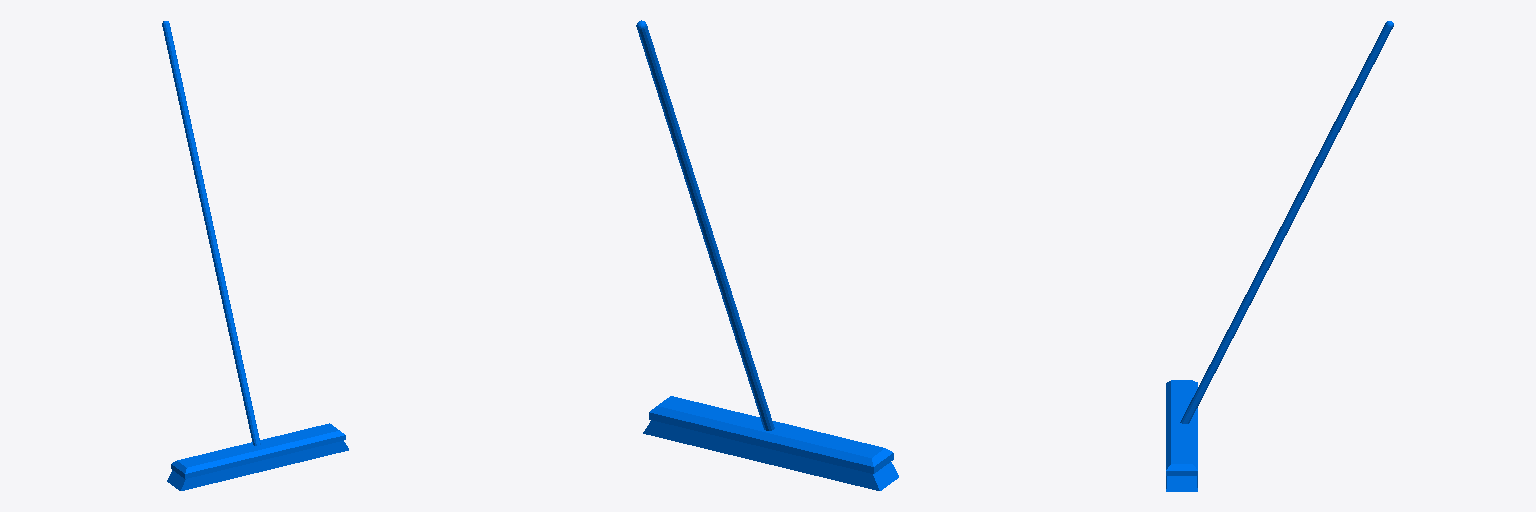
URDF robot description (broom):
<?xml version="1.0"?>
<robot name="broom">
    <link name="broom_body">
        <inertial>
            <origin xyz="0.000059 -0.098607 0.074060" rpy="3.141299 3.558271 1.570976" />
            <inertia ixz="0" ixy="0" ixx="1" izz="1" iyz="0" iyy="0.3" />
            <mass value="10" />
        </inertial>
        <collision name="broom1">
            <origin xyz="0.000677 0.01584 0.321189" rpy="2.705260 3.141593 3.141593" />
            <geometry>
                <box size="0.011250 0.011250 0.600000" />
            </geometry>
        </collision>
        <collision name="broom2">
            <origin xyz="-0.000068 -0.122151 0.023222" rpy="3.141592 3.141593 3.141592" />
            <geometry>
                <box size="0.262500 0.037500 0.037500" />
            </geometry>
        </collision>
        <visual name="sweep_to_dustpan_broom_visual">
            <origin xyz="-0.000062 0.000863 0.304031" rpy="-3.141479 3.544896 1.570849" />
            <geometry>
                <mesh filename="broom_sweep_to_dustpan_broom_visual_vis_1.dae" />
            </geometry>
            <material name="sweep_to_dustpan_broom_visual_material">
                <color rgba="0 0.5 1 1" />
            </material>
        </visual>
    </link>
</robot>

--- Facts derived from the render (not from the file) ---
3 views of the same robot in one strip: view 1: azimuth 30°, elevation 25°; view 2: azimuth 150°, elevation 25°; view 3: azimuth 270°, elevation 25° (orthographic).
Robot: broom — 1 links, 0 joints (none); root link broom_body; default pose: every joint at zero.
Visible links, largest first — view 1: broom_body; view 2: broom_body; view 3: broom_body.
Boxes of the visible links, box(x1,y1,x2,y2) form: broom_body: box(162, 21, 348, 490); broom_body: box(636, 20, 898, 490); broom_body: box(1166, 21, 1393, 491).
Size in the robot's own frame: 0.2828 by 0.2932 by 0.6022 metres.
1 mesh visuals loaded from 1 distinct referenced files (1 Collada DAE).